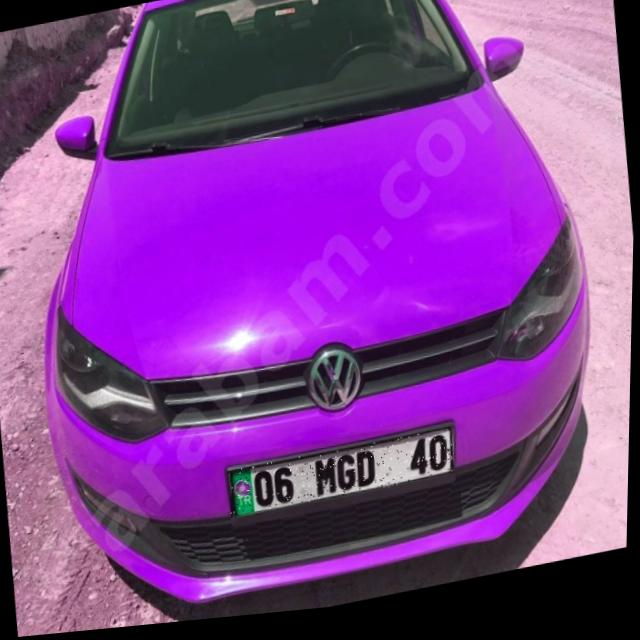license_plate: (228, 435, 457, 522)
